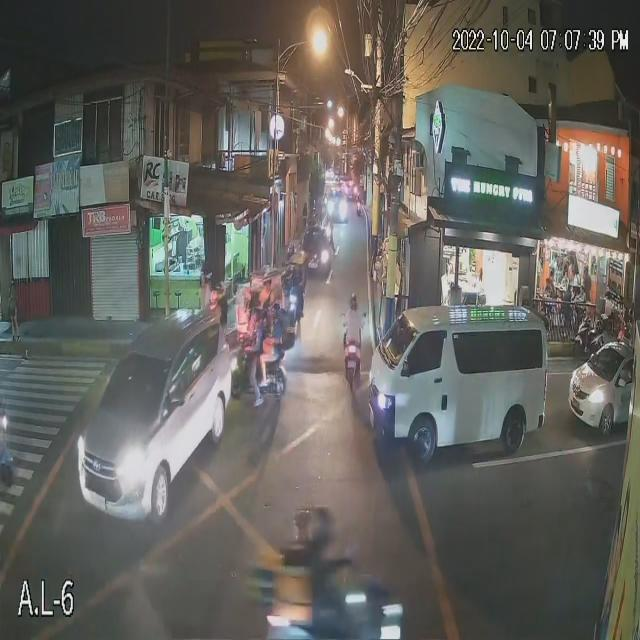helmet: (344, 290, 360, 311)
motorcycle: (262, 573, 404, 639), (232, 350, 287, 397), (343, 340, 362, 383), (287, 289, 303, 325)
rider: (280, 505, 358, 609), (258, 319, 284, 388), (247, 330, 268, 405), (342, 311, 366, 355), (289, 262, 306, 296)
